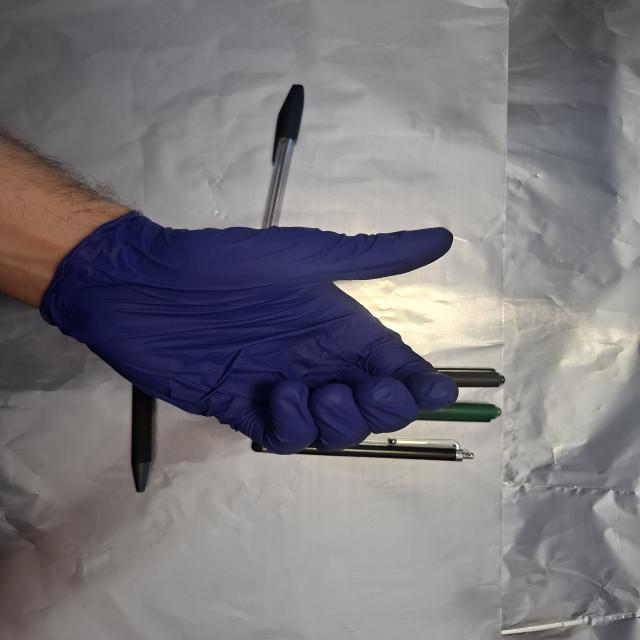glove_on: (40, 210, 464, 458)
